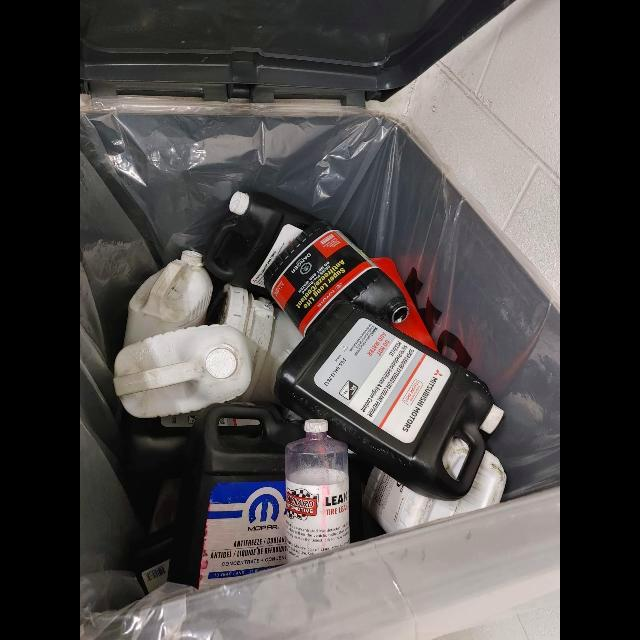plastic_bottle: (274, 303, 504, 502), (168, 402, 306, 591), (264, 221, 409, 336), (113, 325, 252, 419), (205, 192, 319, 296), (363, 451, 507, 533), (284, 419, 350, 564), (123, 251, 214, 348)
